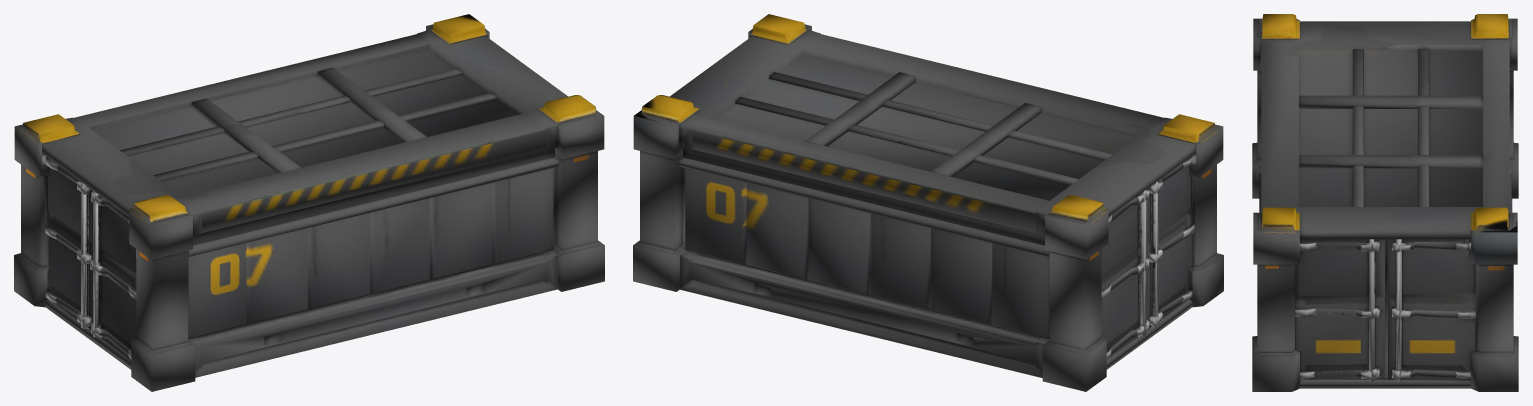
Rendered from Cargo.fbx.
The picture shows the model from 3 angles, left to right: view 1: azimuth 30°, elevation 25°; view 2: azimuth 150°, elevation 25°; view 3: azimuth 270°, elevation 25°; orthographic projection. The views are drawn at different scales.
Visible parts, largest first — view 1: Cargo; view 2: Cargo; view 3: Cargo.
Boxes of the visible parts, box(x1,y1,x2,y2) form: Cargo: box(14, 14, 604, 391); Cargo: box(633, 14, 1223, 391); Cargo: box(1252, 14, 1518, 391).
Size of the model in its own units: 99.8 by 36.13 by 52.54.
